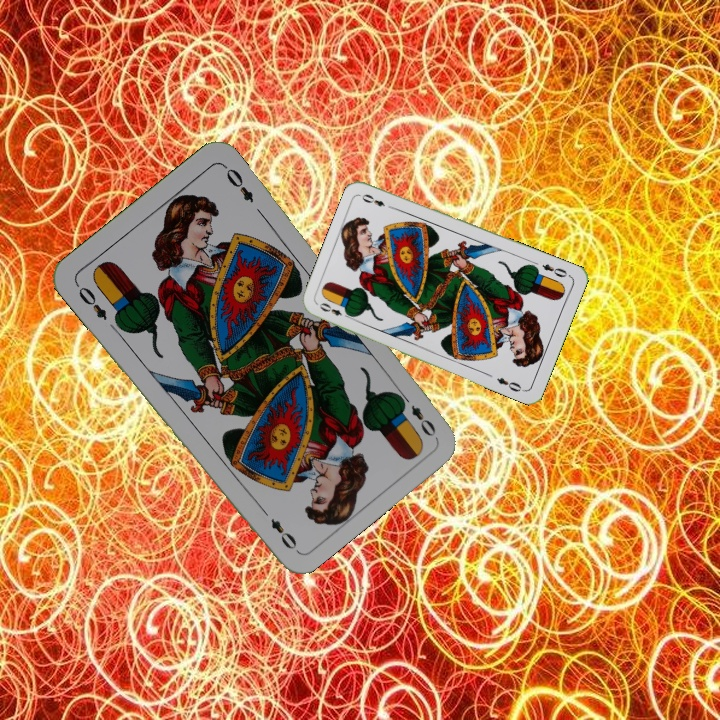EO: (395, 389, 439, 440), (71, 279, 110, 323), (315, 299, 354, 321), (538, 260, 570, 280)
